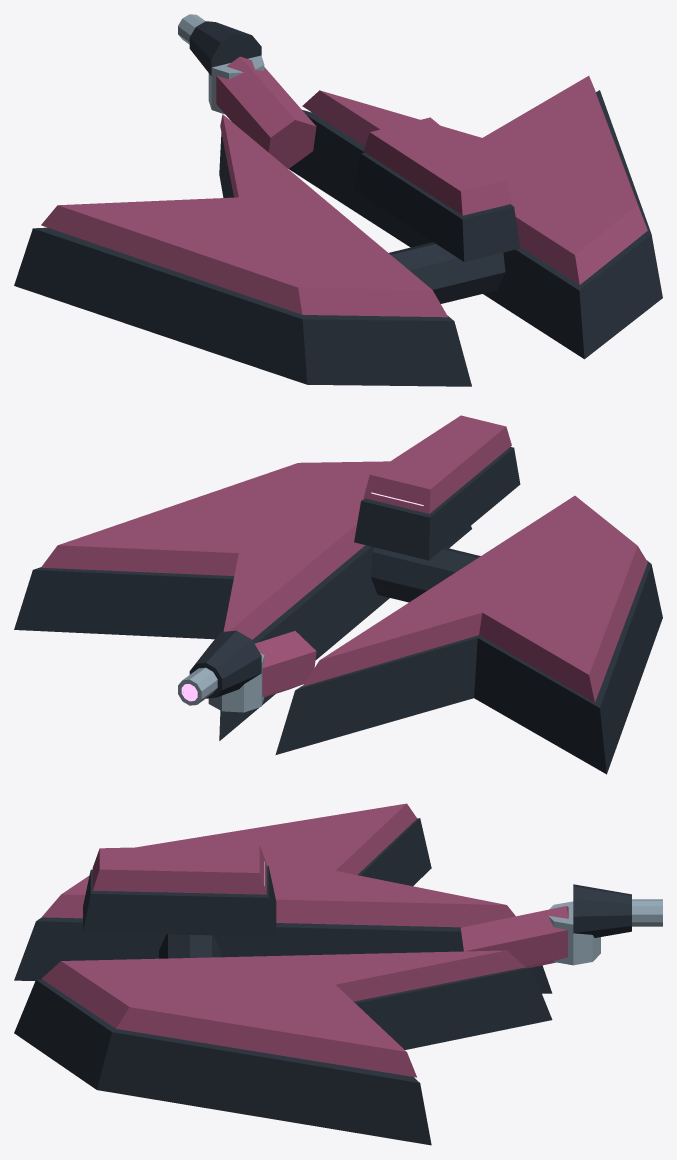
Rendered from c2_ufo.glb.
3 views of the same model, one above another, from view 1: azimuth 30°, elevation 25°; view 2: azimuth 150°, elevation 25°; view 3: azimuth 270°, elevation 25° (orthographic). The views are drawn at different scales.
Parts seen in each view (by area): view 1: ufo / Armor, ufo / Chassis, ufo / Titanium; view 2: ufo / Armor, ufo / Chassis, ufo / Titanium; view 3: ufo / Armor, ufo / Chassis, ufo / Titanium.
Boxes of the visible parts, box(x1,y1,x2,y2) form: ufo / Armor: box(41, 56, 647, 317); ufo / Chassis: box(14, 21, 662, 386); ufo / Titanium: box(178, 14, 264, 114); ufo / Armor: box(41, 415, 647, 702); ufo / Chassis: box(14, 447, 662, 774); ufo / Titanium: box(178, 653, 264, 712); ufo / Armor: box(41, 803, 568, 1077); ufo / Chassis: box(14, 818, 631, 1145); ufo / Titanium: box(548, 899, 662, 965).
Bounding box in the file's own units: 1.9 × 0.473 × 1.88.
